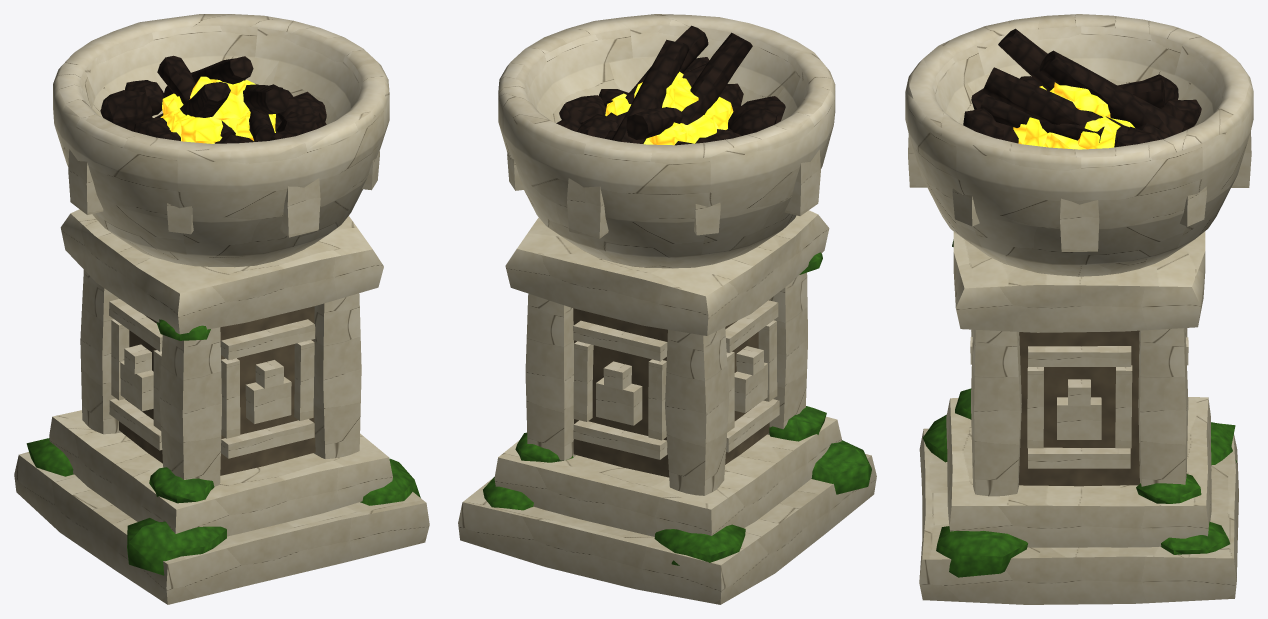
3 views of the same model, side by side, from view 1: azimuth 30°, elevation 25°; view 2: azimuth 150°, elevation 25°; view 3: azimuth 270°, elevation 25° (orthographic). The views are drawn at different scales.
Visible parts, largest first — view 1: Mesh_BrazierLimestone, Mesh_BrazierCharredLogs, Mesh_BrazierMossCushions, Mesh_BrazierCarvedGrout, Mesh_BrazierEmberCore; view 2: Mesh_BrazierLimestone, Mesh_BrazierCharredLogs, Mesh_BrazierMossCushions, Mesh_BrazierCarvedGrout, Mesh_BrazierEmberCore; view 3: Mesh_BrazierLimestone, Mesh_BrazierCharredLogs, Mesh_BrazierCarvedGrout, Mesh_BrazierMossCushions, Mesh_BrazierEmberCore.
Part boxes in pixels (<box>): Mesh_BrazierLimestone: <box>14,14,429,604</box>; Mesh_BrazierCharredLogs: <box>100,55,326,143</box>; Mesh_BrazierMossCushions: <box>26,319,420,575</box>; Mesh_BrazierCarvedGrout: <box>119,298,315,475</box>; Mesh_BrazierEmberCore: <box>160,76,275,143</box>; Mesh_BrazierLimestone: <box>458,14,876,604</box>; Mesh_BrazierCharredLogs: <box>556,25,785,145</box>; Mesh_BrazierMossCushions: <box>483,252,871,565</box>; Mesh_BrazierCarvedGrout: <box>573,300,769,477</box>; Mesh_BrazierEmberCore: <box>605,71,733,145</box>; Mesh_BrazierLimestone: <box>905,14,1253,604</box>; Mesh_BrazierCharredLogs: <box>963,28,1201,147</box>; Mesh_BrazierCarvedGrout: <box>1018,330,1139,486</box>; Mesh_BrazierMossCushions: <box>923,239,1236,577</box>; Mesh_BrazierEmberCore: <box>1013,82,1134,149</box>.
Size of the model in its own units: 0.778 by 1.2 by 0.776.
5 materials, 5 textured.
